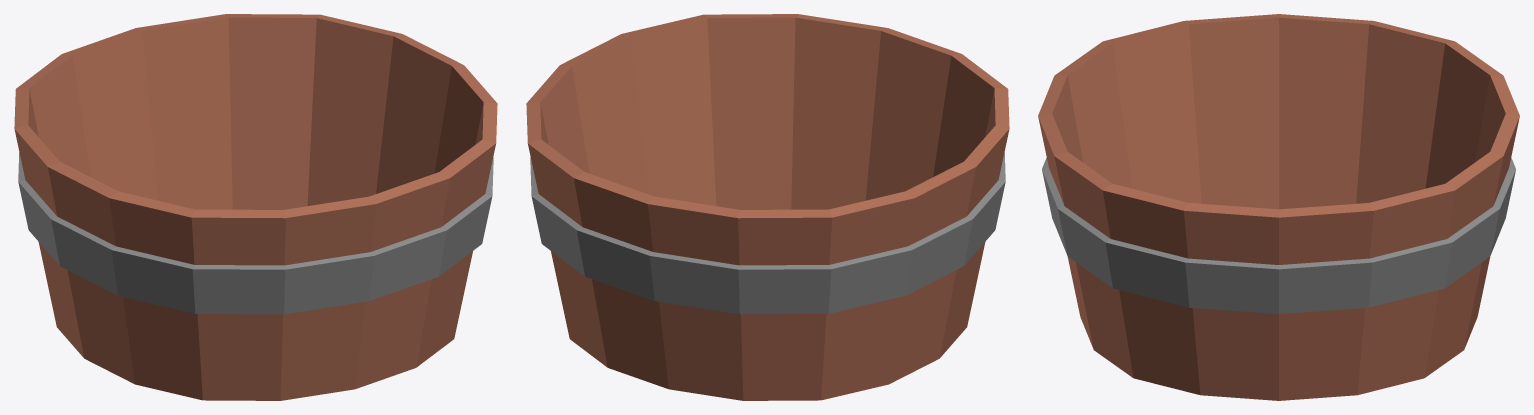
File: Sushi master assets.fbx
3 views of the same model, side by side, from view 1: azimuth 30°, elevation 25°; view 2: azimuth 150°, elevation 25°; view 3: azimuth 270°, elevation 25° (orthographic).
Parts seen in each view (by area): view 1: 평면, 평면.001; view 2: 평면, 평면.001; view 3: 평면, 평면.001.
Part boxes in pixels (<box>): 평면: <box>14,14,497,400</box>; 평면.001: <box>18,152,493,314</box>; 평면: <box>526,14,1009,400</box>; 평면.001: <box>530,152,1005,314</box>; 평면: <box>1038,14,1519,400</box>; 평면.001: <box>1042,157,1515,314</box>.
Bounding box in the file's own units: 234 × 111 × 234.
